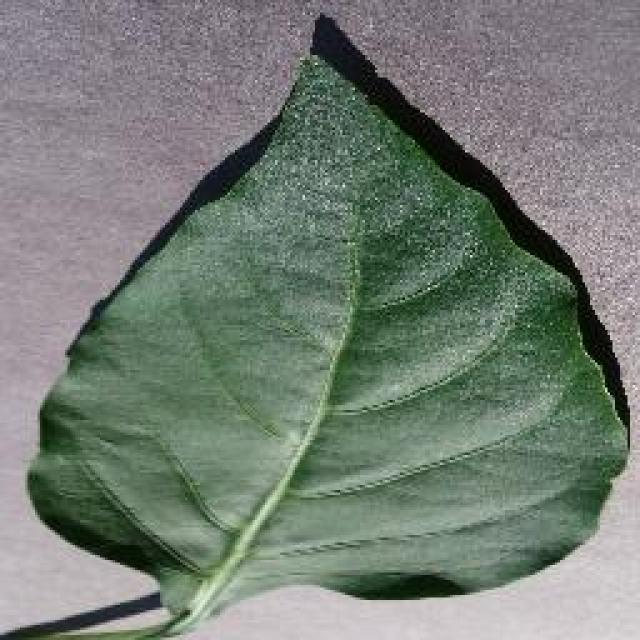Chilli_Healthy: (10, 12, 632, 638)
